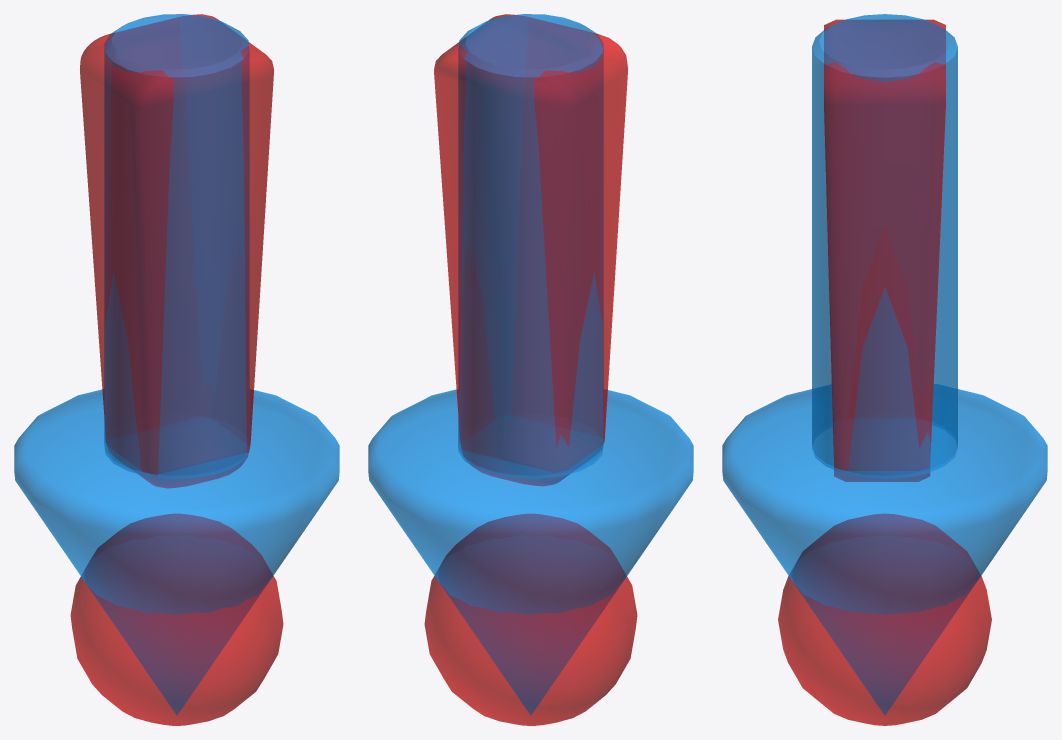
Rendered from jaingk_sc.FBX.
The picture shows the model from 3 angles, left to right: view 1: azimuth 30°, elevation 25°; view 2: azimuth 150°, elevation 25°; view 3: azimuth 270°, elevation 25°; orthographic projection.
Parts seen in each view (by area): view 1: jiantou1, jingbao; view 2: jiantou1, jingbao; view 3: jiantou1, jingbao.
Part boxes in pixels (bbox=[...]): jiantou1: bbox=[14, 14, 339, 714]; jingbao: bbox=[70, 14, 283, 725]; jiantou1: bbox=[368, 14, 693, 714]; jingbao: bbox=[424, 14, 637, 725]; jiantou1: bbox=[722, 14, 1047, 714]; jingbao: bbox=[778, 19, 991, 725].
Size of the model in its own units: 0.3405 by 0.7673 by 0.3354.
